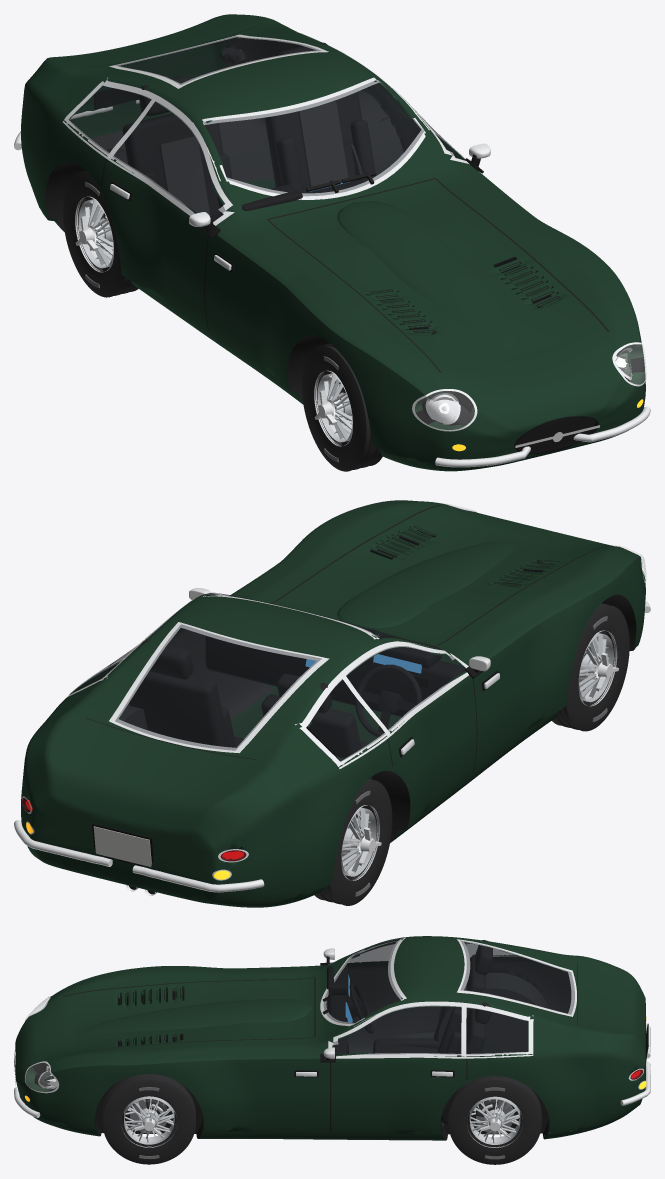
The model's file is etype.glb.
3 views of the same model, one above another, from view 1: azimuth 30°, elevation 25°; view 2: azimuth 150°, elevation 25°; view 3: azimuth 270°, elevation 25° (orthographic). The views are drawn at different scales.
Parts seen in each view (by area): view 1: Body, Wheel_FR, Wheel_RR; view 2: Body, Wheel_FR, Wheel_RR; view 3: Body, Wheel_FL, Wheel_RL.
Part boxes in pixels (x1=…): Body: x1=14, y1=14, x2=650, y2=471; Wheel_FR: x1=301, y1=343, x2=382, y2=471; Wheel_RR: x1=62, y1=170, x2=138, y2=297; Body: x1=14, y1=500, x2=650, y2=907; Wheel_FR: x1=552, y1=603, x2=629, y2=731; Wheel_RR: x1=314, y1=779, x2=392, y2=905; Body: x1=14, y1=936, x2=650, y2=1140; Wheel_FL: x1=102, y1=1074, x2=195, y2=1164; Wheel_RL: x1=448, y1=1076, x2=541, y2=1164.
Size of the model in its own units: 1.76 by 1.21 by 4.49.
